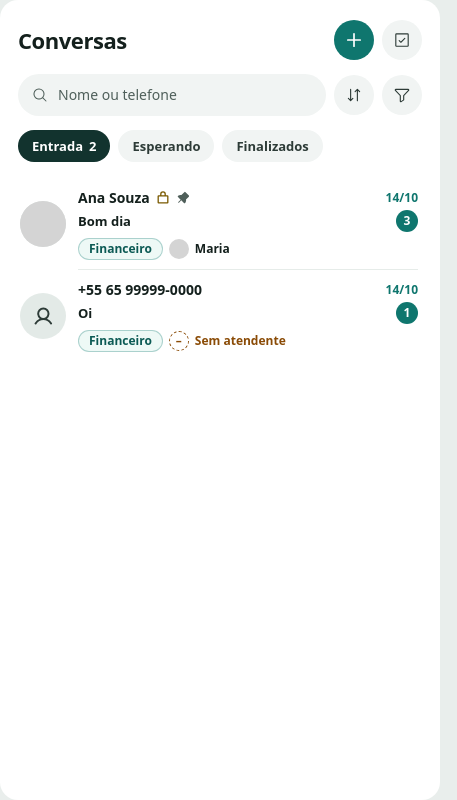
an empty list under a search or filter says so and offers "Limpar filtros"
Expected: the text "Ana Souza" is shown, x1=78 y1=188 x2=150 y2=208
Click the tab "Esperando" at [166, 146], box x1=118 y1=130 x2=214 y2=162
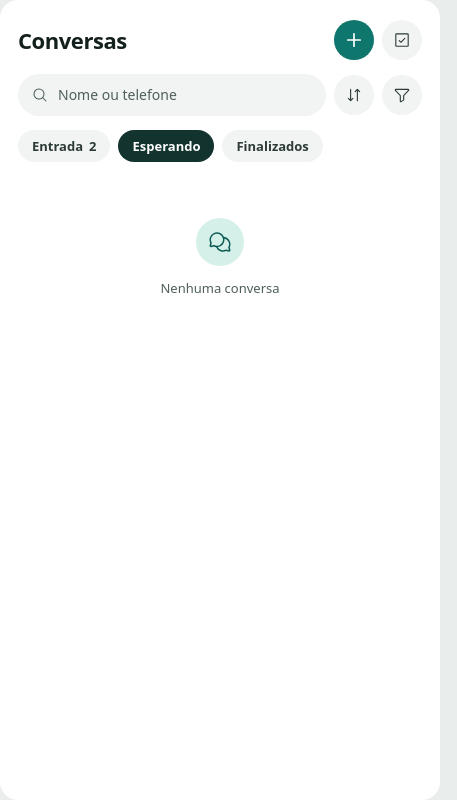
Expected: the text "Nenhuma conversa" is shown, x1=160 y1=278 x2=280 y2=298
Type "zé" into the search field named "Buscar conversas" at [185, 95], box x1=58 y1=85 x2=312 y2=105
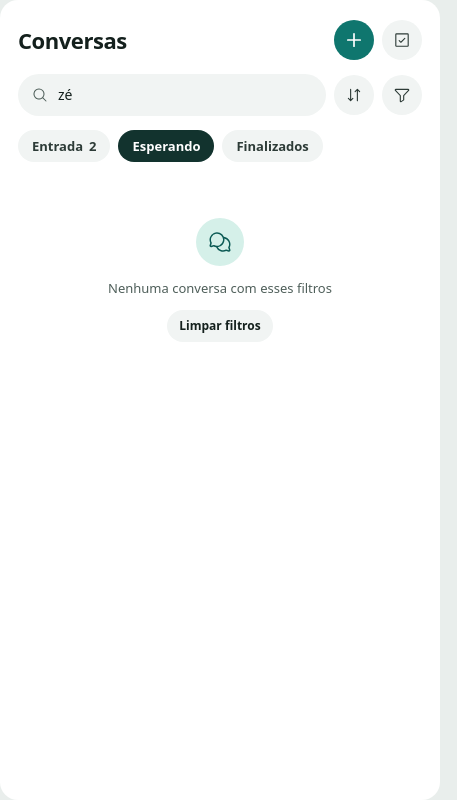
Expected: the text "Nenhuma conversa com esses filtros" is shown, x1=108 y1=278 x2=332 y2=298
Click the button "Limpar filtros" at [220, 326], box x1=167 y1=310 x2=273 y2=342
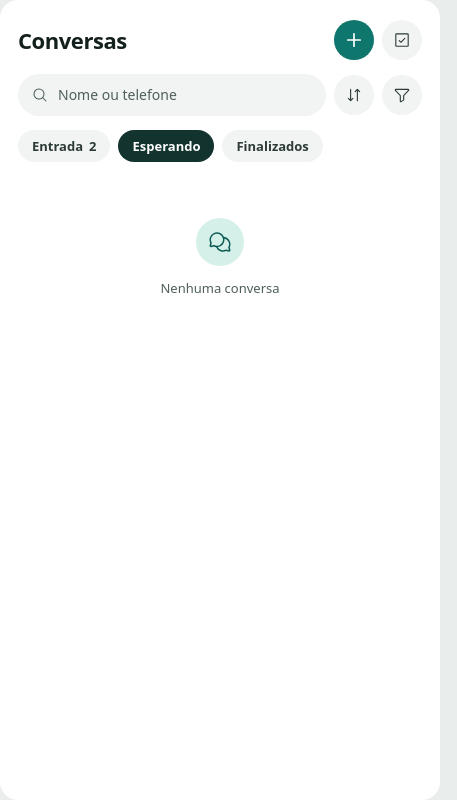
Expected: the text "Nenhuma conversa" is shown, x1=160 y1=278 x2=280 y2=298
Expected: the search field named "Buscar conversas" is empty, x1=58 y1=85 x2=312 y2=105
